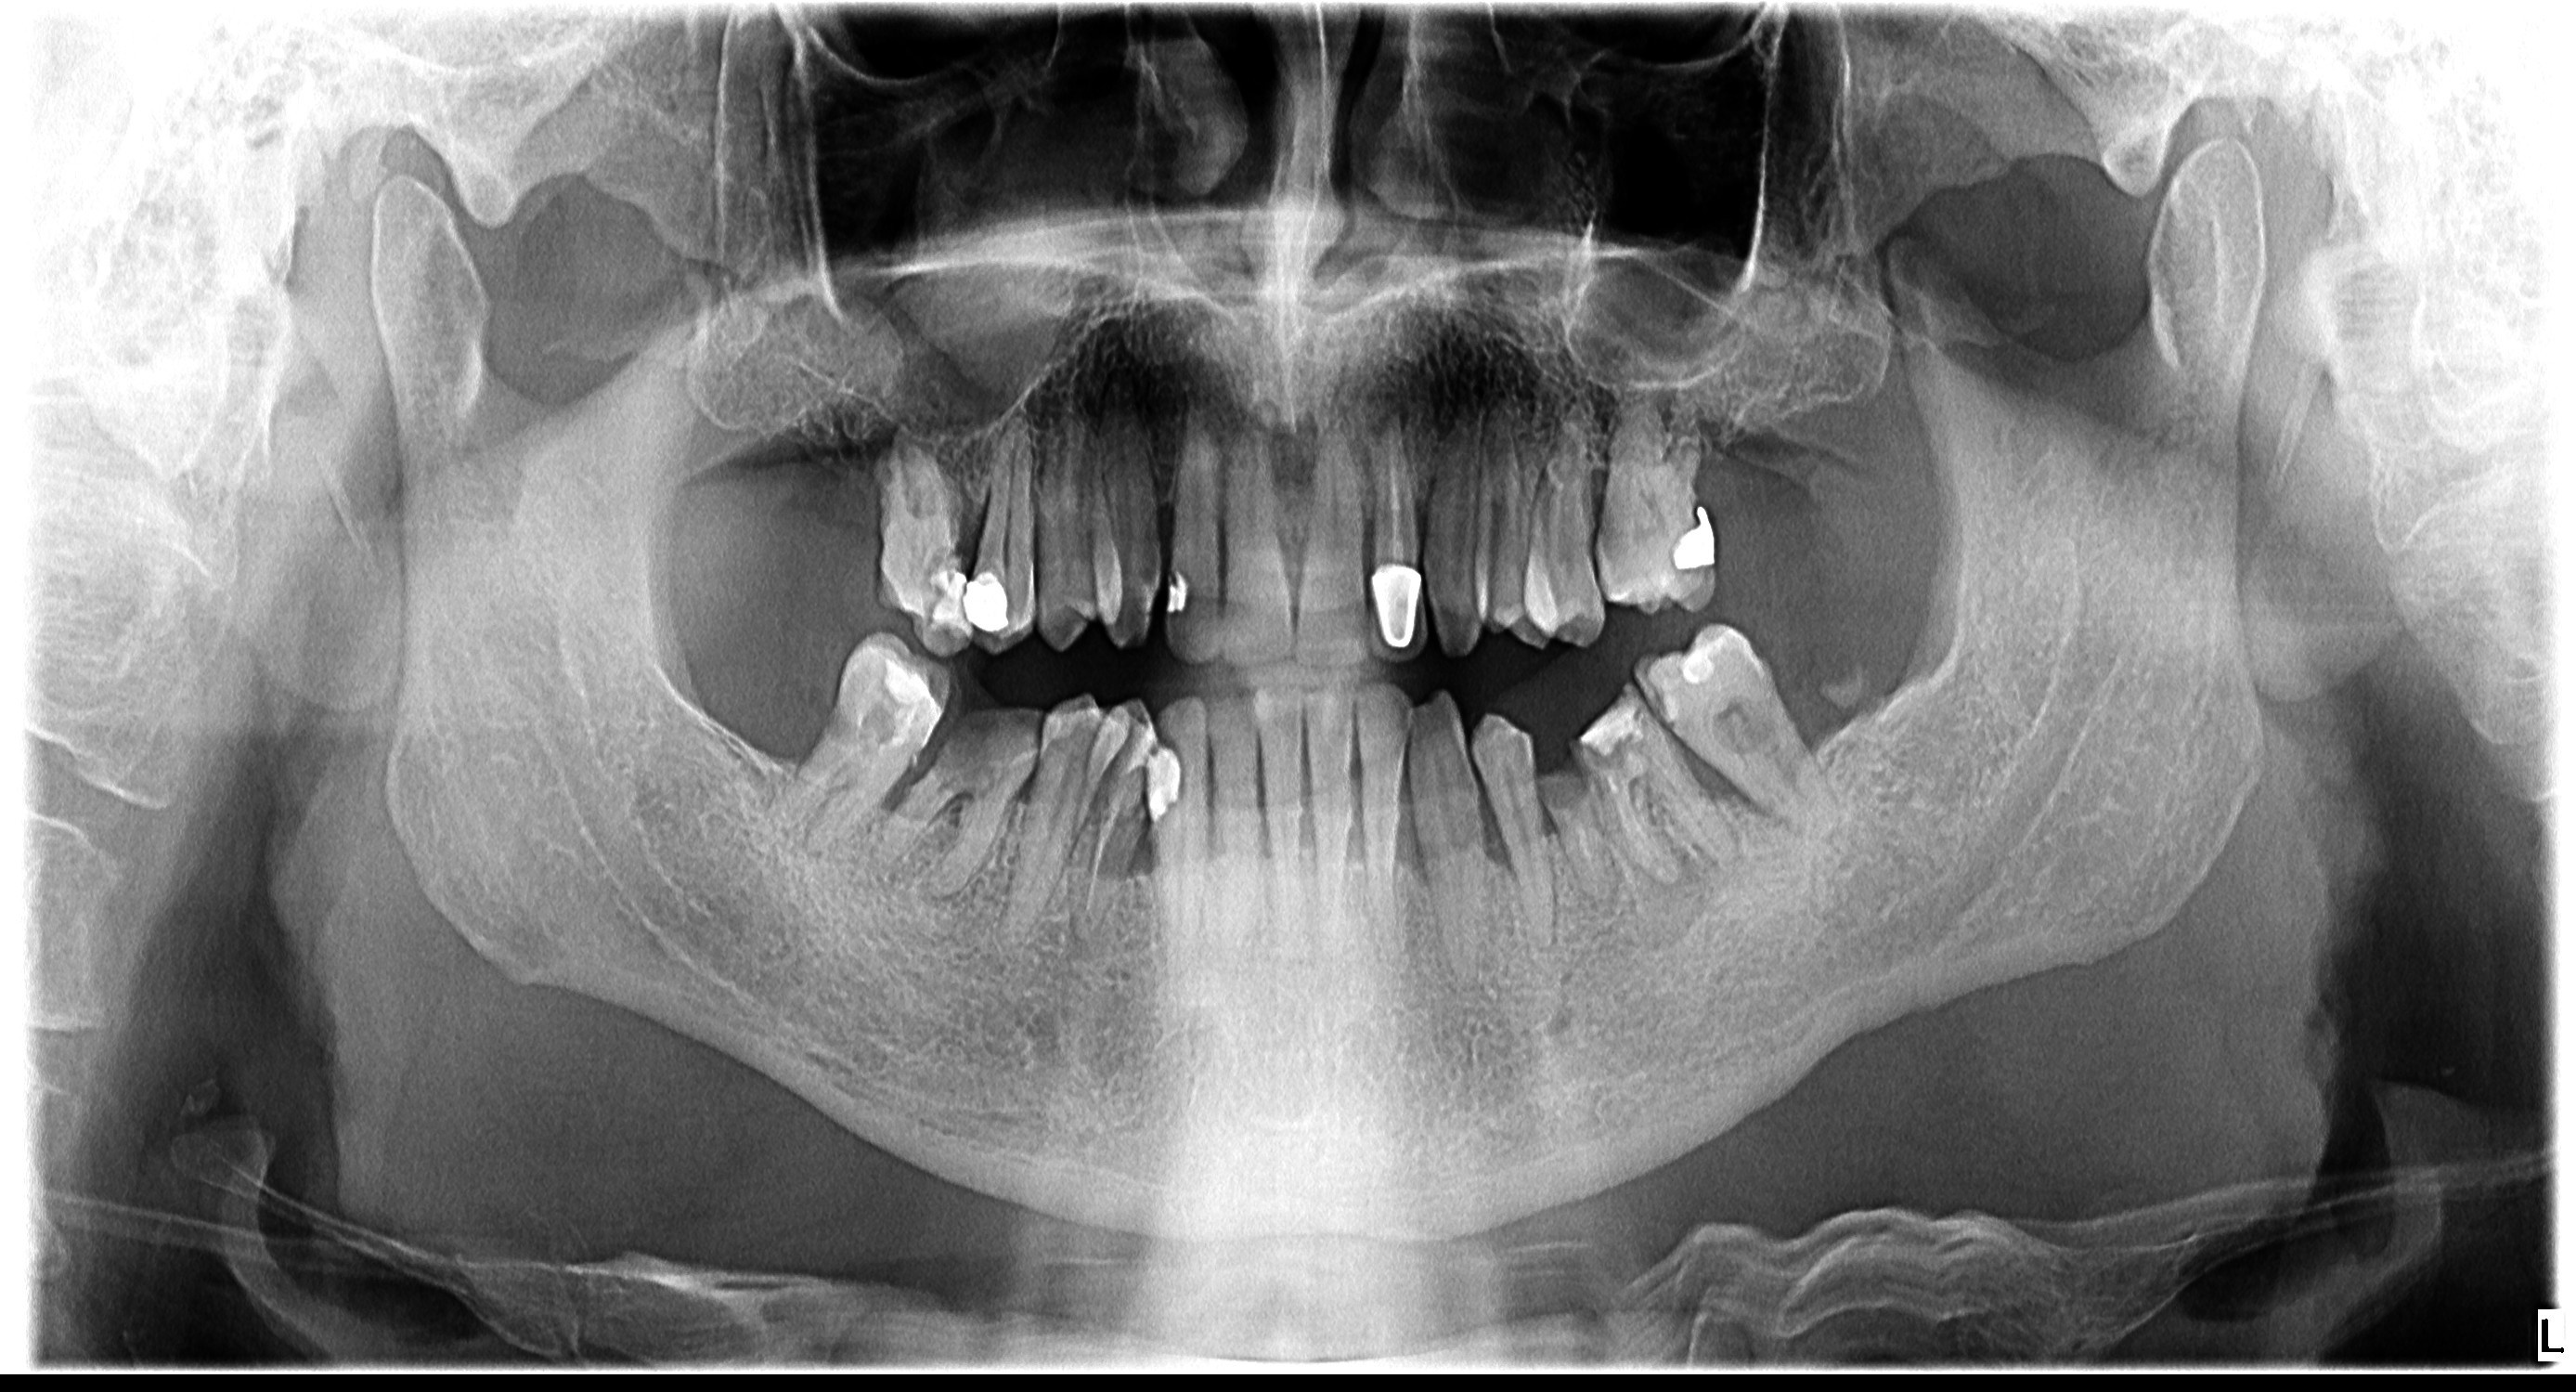API: (1629, 852, 1732, 957), (1569, 883, 1632, 936), (901, 867, 968, 915), (1367, 389, 1416, 447), (790, 823, 836, 874)
BON: (1689, 765, 1783, 826), (1110, 814, 1178, 891), (1384, 814, 1435, 895), (1577, 441, 1619, 538), (1466, 818, 1524, 878), (947, 501, 997, 567), (1329, 806, 1375, 876), (1242, 787, 1281, 862), (1286, 795, 1327, 862), (865, 770, 913, 826), (1149, 483, 1185, 559), (1192, 794, 1225, 873), (1357, 495, 1387, 564), (1408, 478, 1434, 552)
CAR: (928, 711, 1041, 794), (1636, 689, 1685, 744), (1577, 746, 1634, 785), (1148, 722, 1185, 775), (932, 531, 973, 578), (1682, 490, 1718, 531)
FUR: (930, 787, 983, 825)
OBT: (872, 646, 954, 722), (1559, 684, 1655, 747), (1653, 506, 1728, 583), (911, 559, 973, 641), (959, 562, 1023, 638), (1137, 747, 1196, 826), (1668, 629, 1740, 689), (1158, 562, 1201, 622)
PRR: (1341, 564, 1447, 672)
ROT: (1526, 761, 1620, 905), (1810, 651, 1884, 722)
